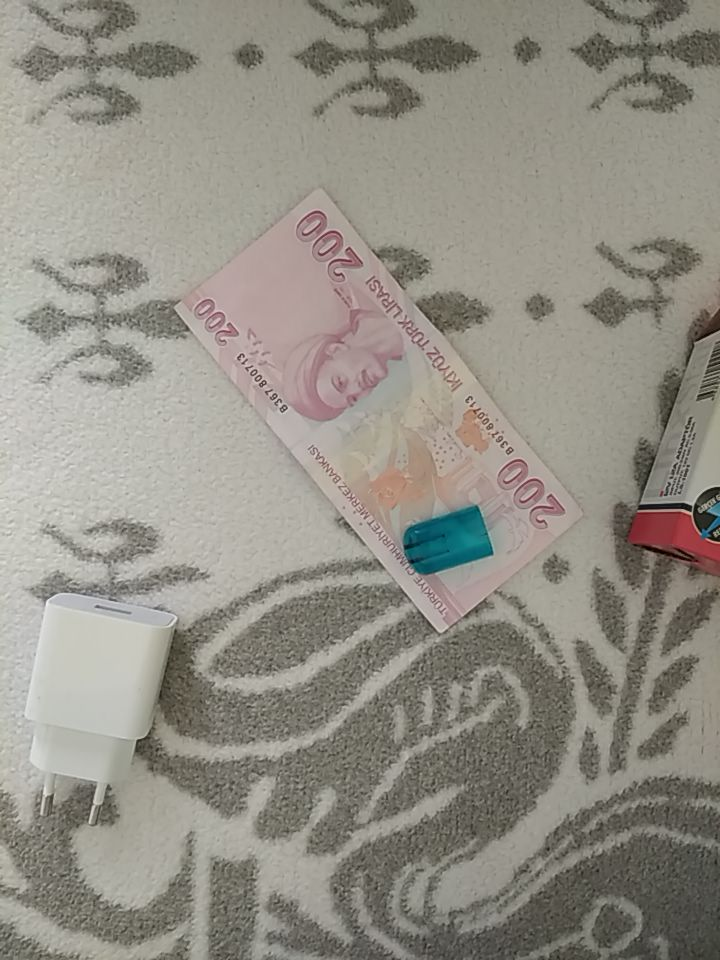200TL: (172, 186, 585, 639)
